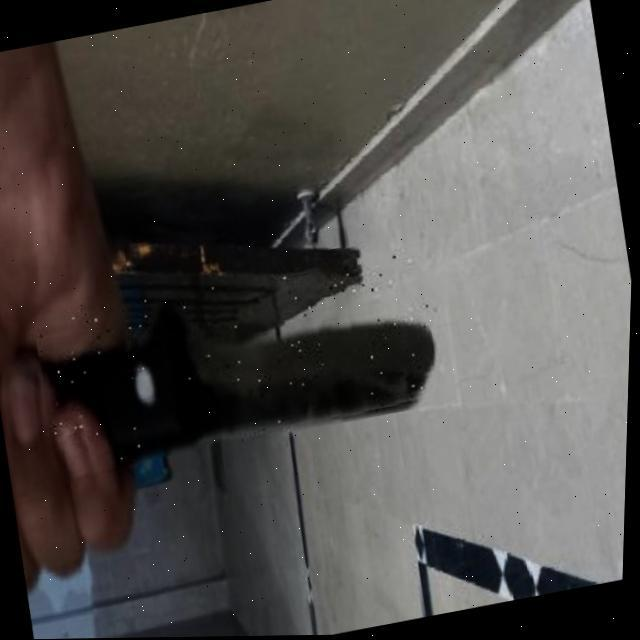knife: (32, 248, 447, 476)
